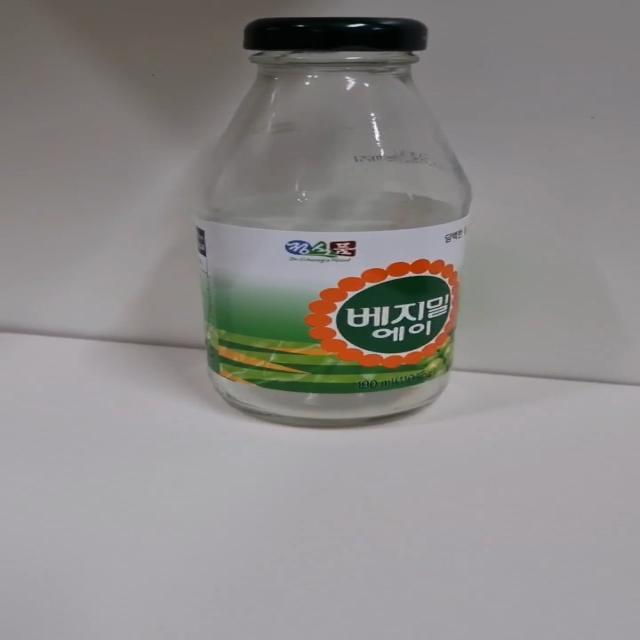Glass: (192, 18, 473, 429)
